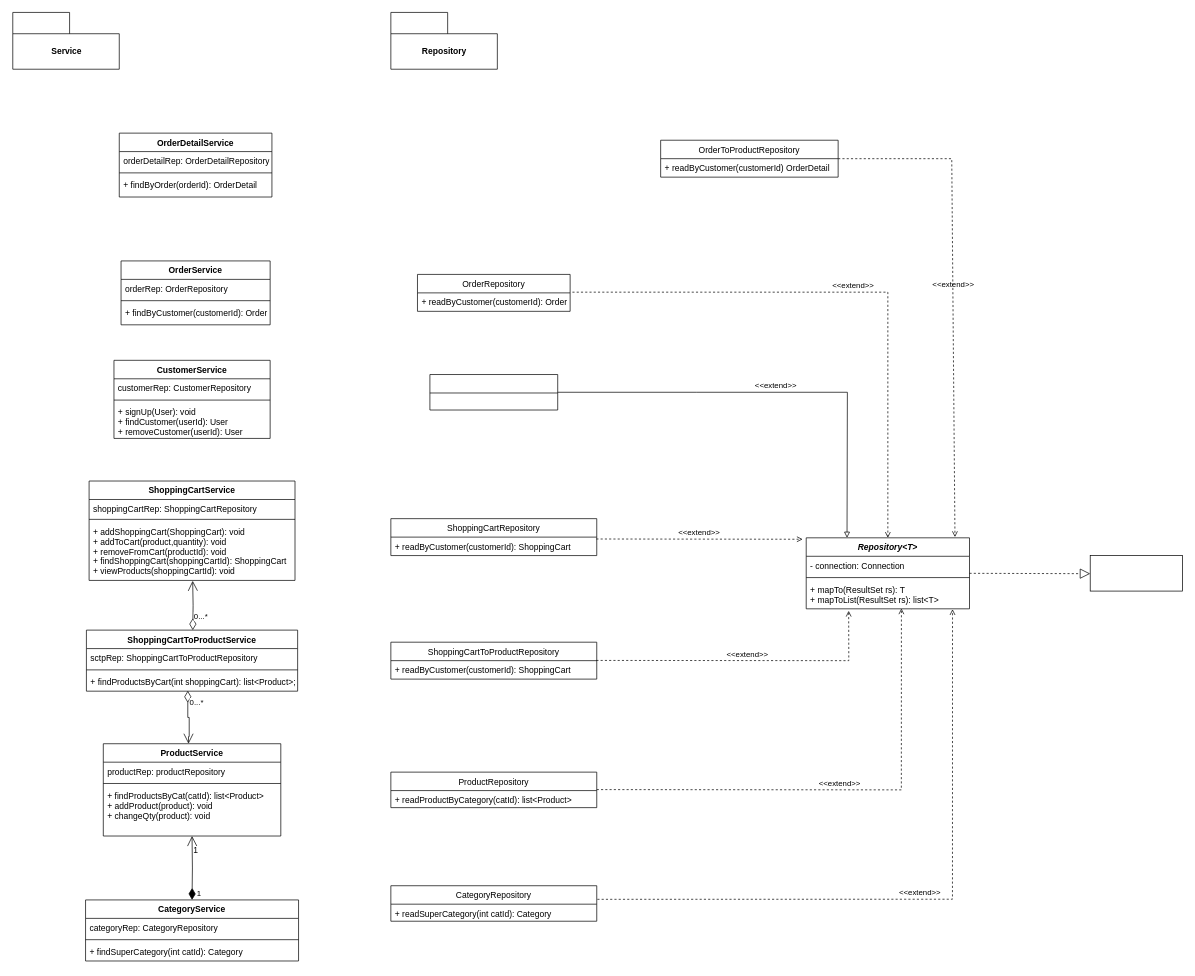
Some shapes in this 1195 by 976 pixel diagram are drawn without their labels. The shapes that lost their labels are listed below. From the top down, each one's centre as x and y in pixels, then its label:
At (493,392): "CustomerRepository".
At (1136,573): "«interface» BaseRepository<T>".
